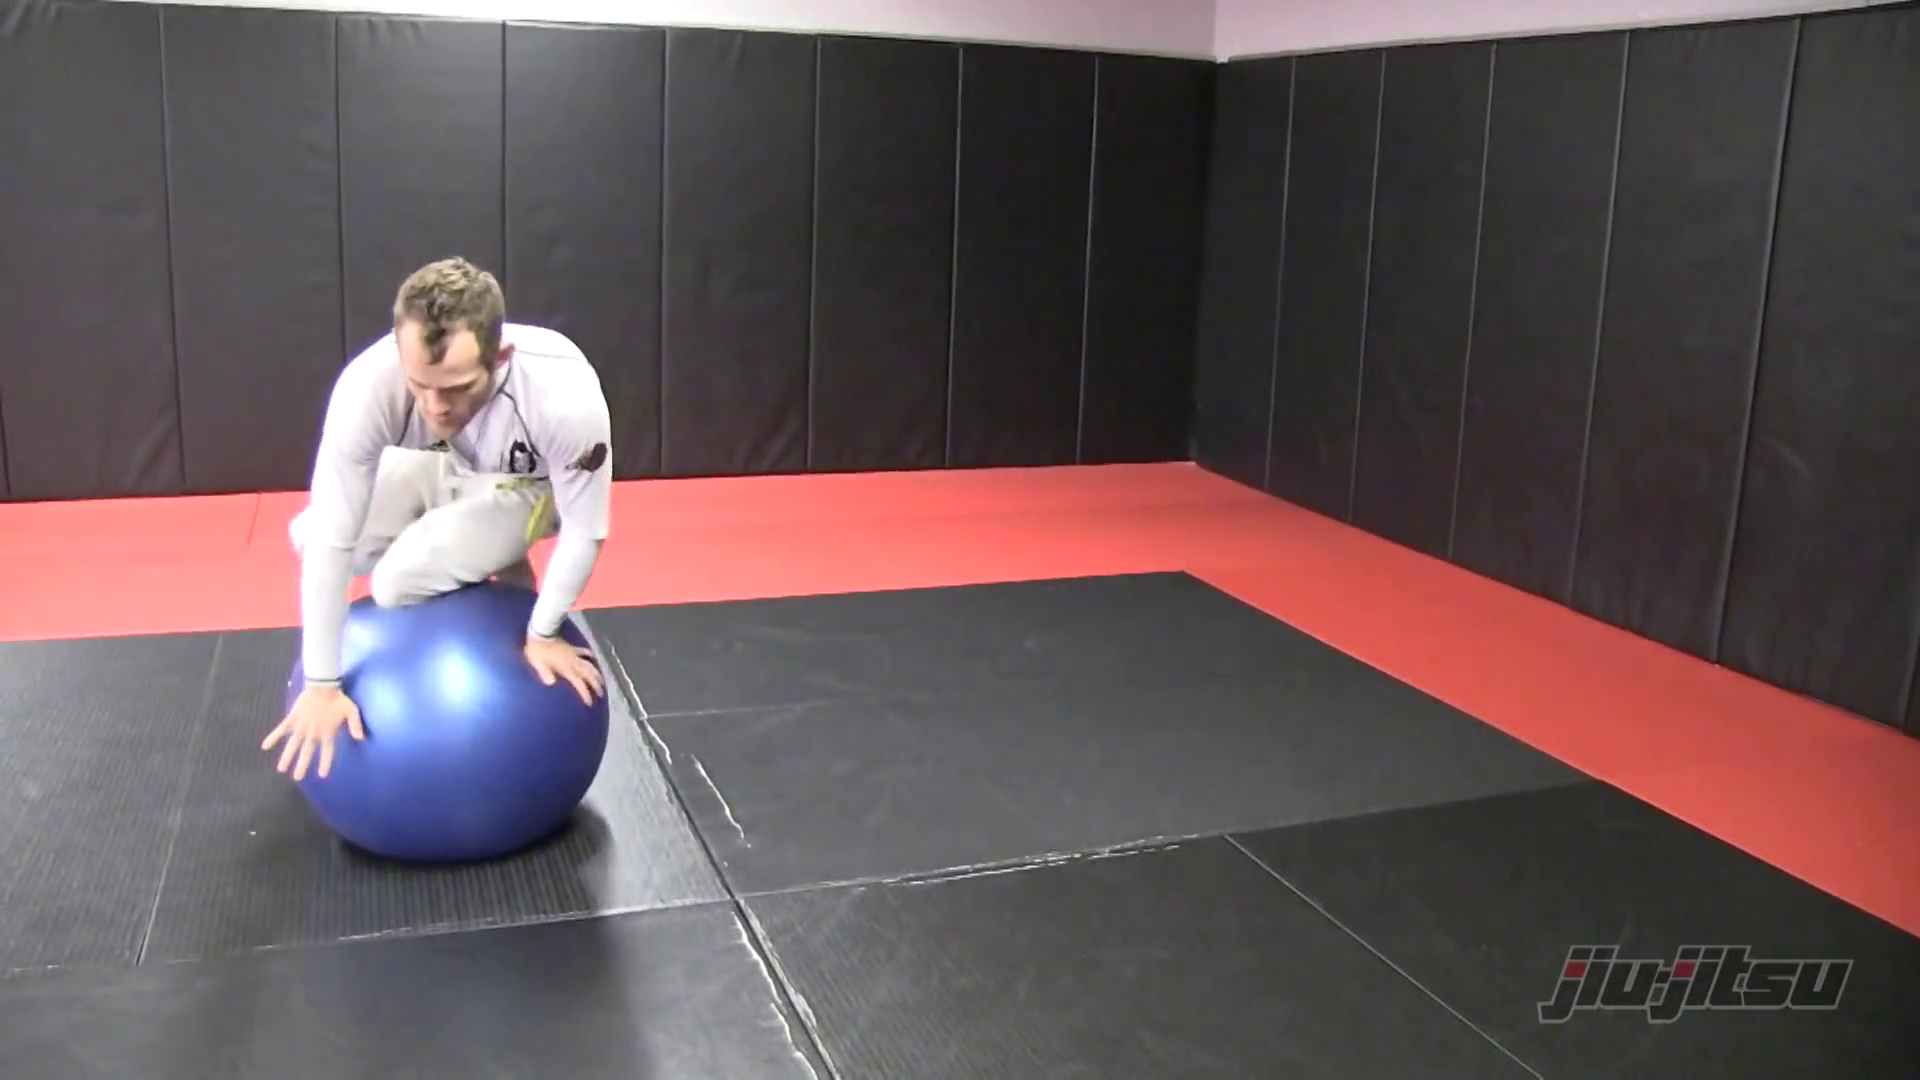yogaball: (281, 582, 636, 889)
